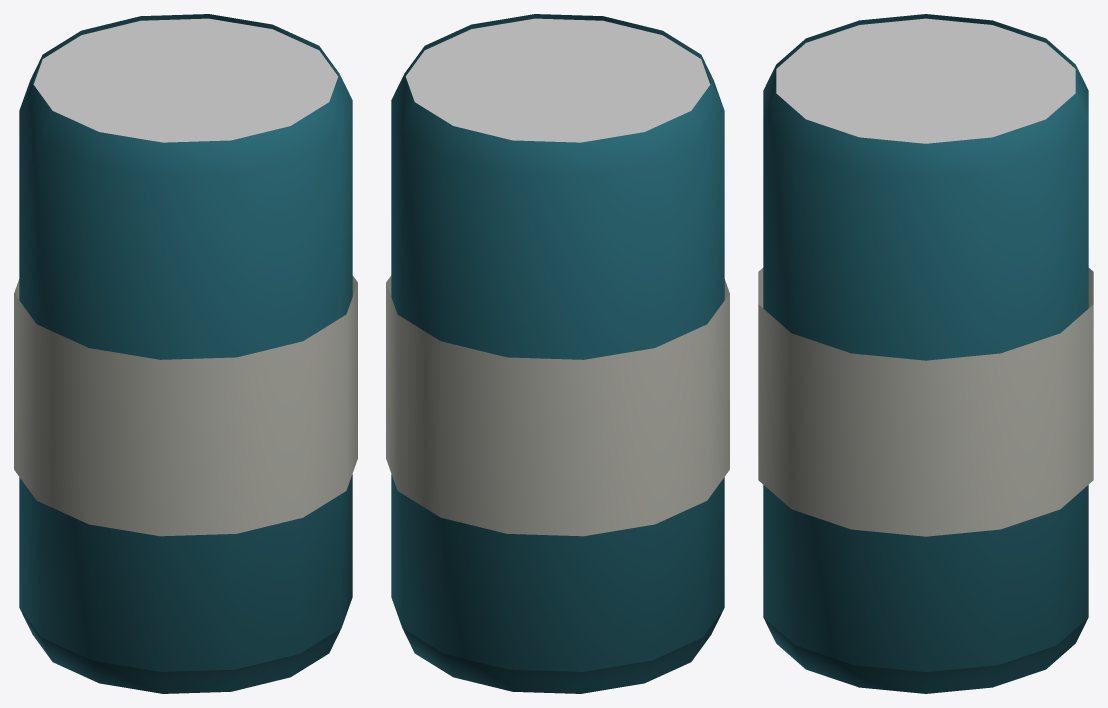
File: refresco.glb
3 views of the same model, side by side, from view 1: azimuth 30°, elevation 25°; view 2: azimuth 150°, elevation 25°; view 3: azimuth 270°, elevation 25° (orthographic).
Visible parts, largest first — view 1: refresco; view 2: refresco; view 3: refresco.
Boxes of the visible parts, <box> form: refresco: <box>14,14,357,693</box>; refresco: <box>386,14,729,693</box>; refresco: <box>758,14,1093,693</box>.
Bounding box in the file's own units: 0.068 × 0.12 × 0.0663.
